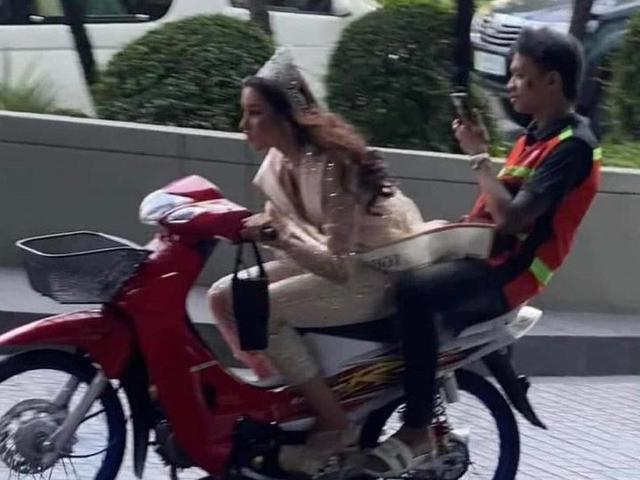motor: (1, 176, 549, 480)
non-helm: (237, 44, 326, 156), (508, 25, 585, 115)
